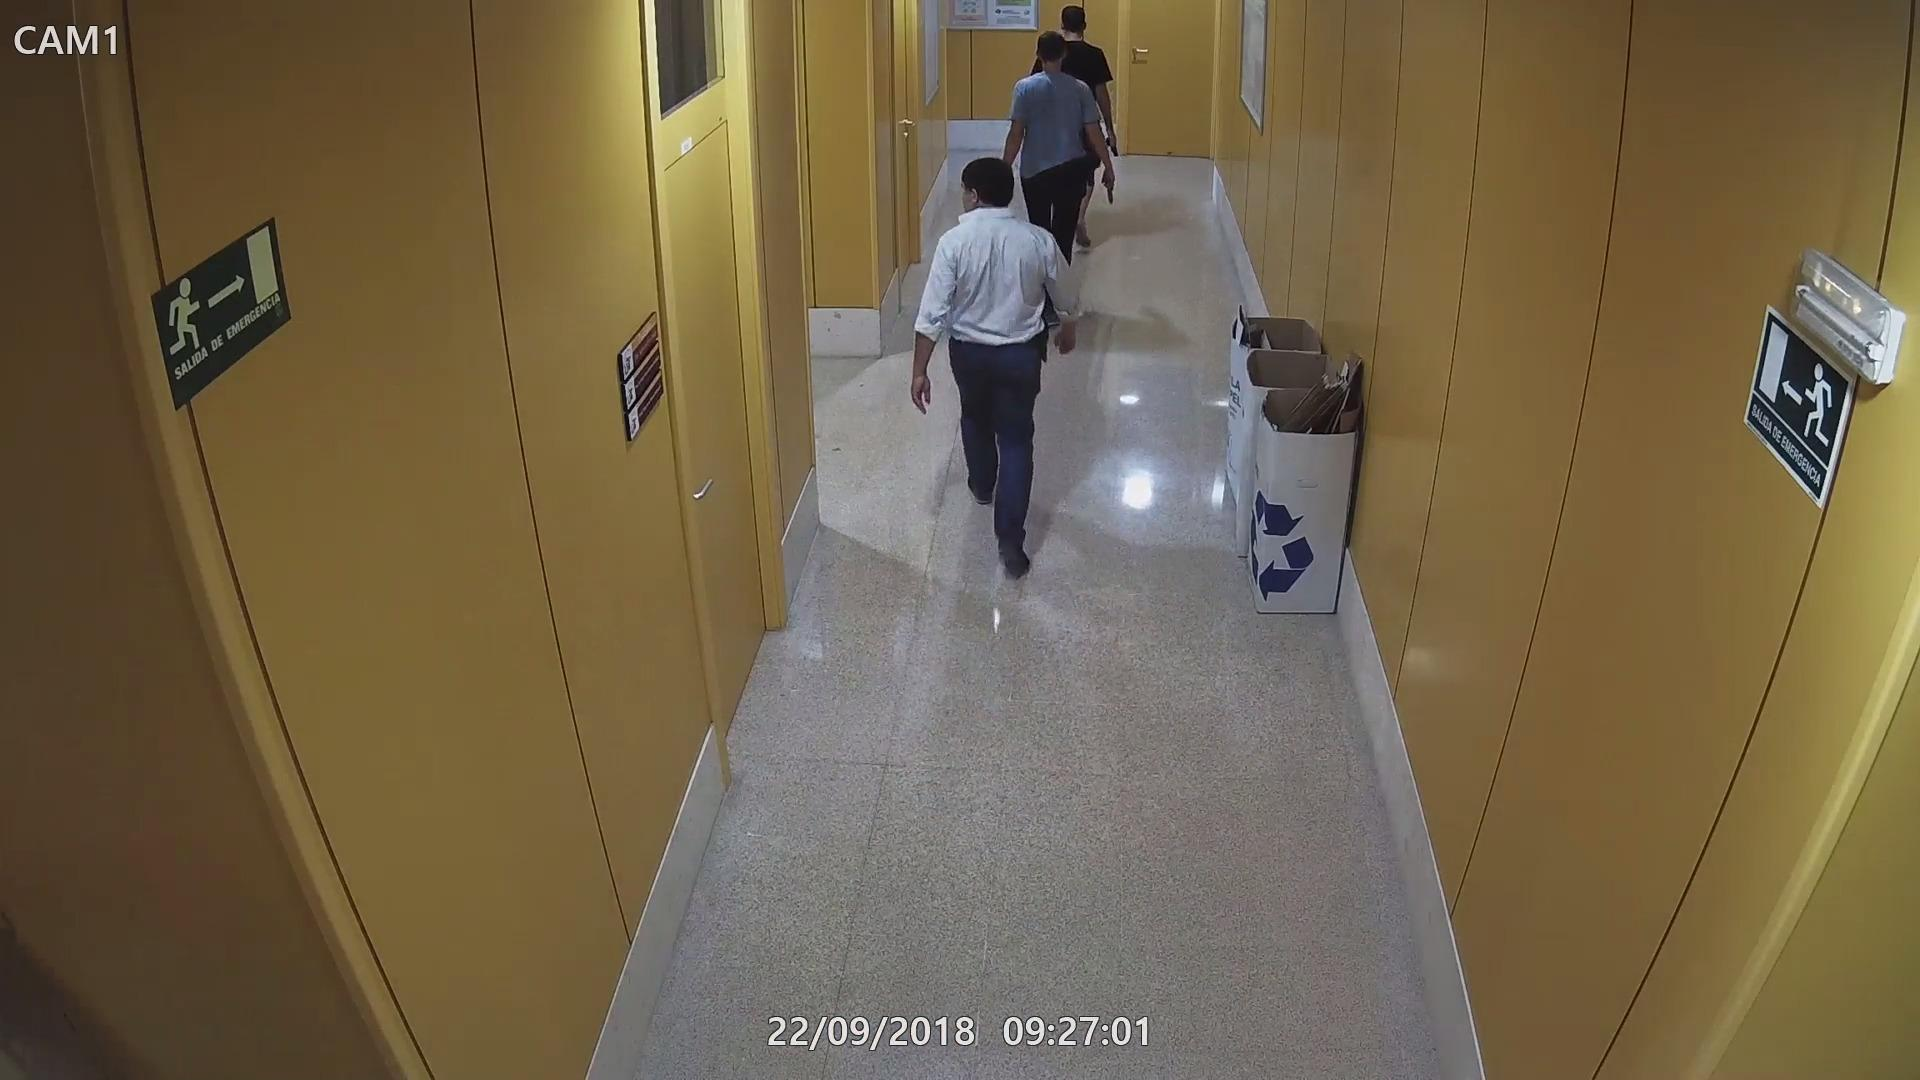Handgun: (1096, 167, 1122, 207), (1101, 128, 1127, 157)
